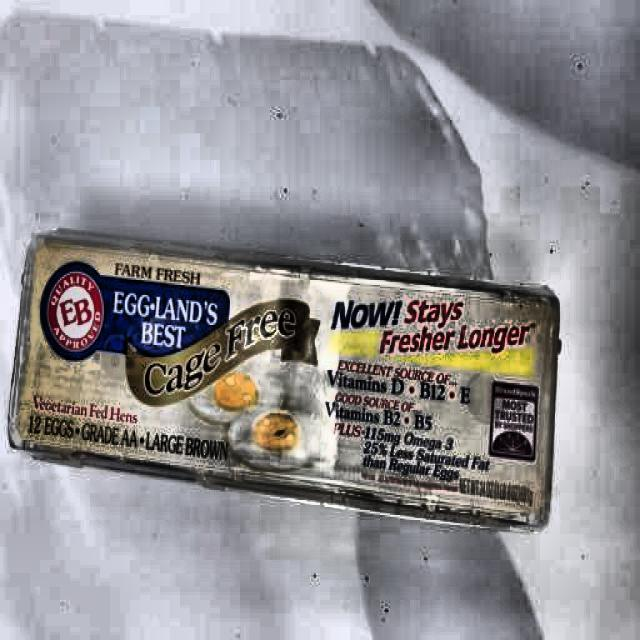plastic: (16, 222, 564, 531)
